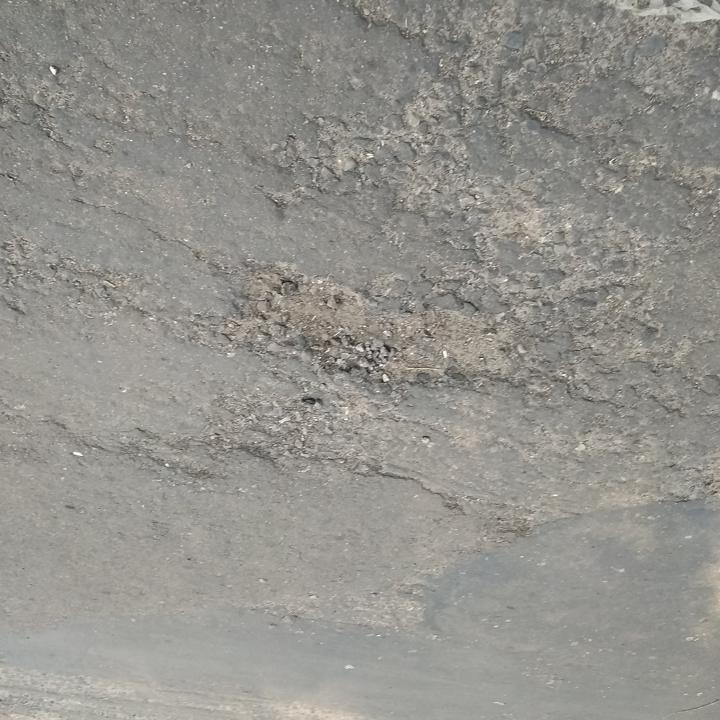pothole: (234, 256, 526, 394), (236, 394, 378, 477)
